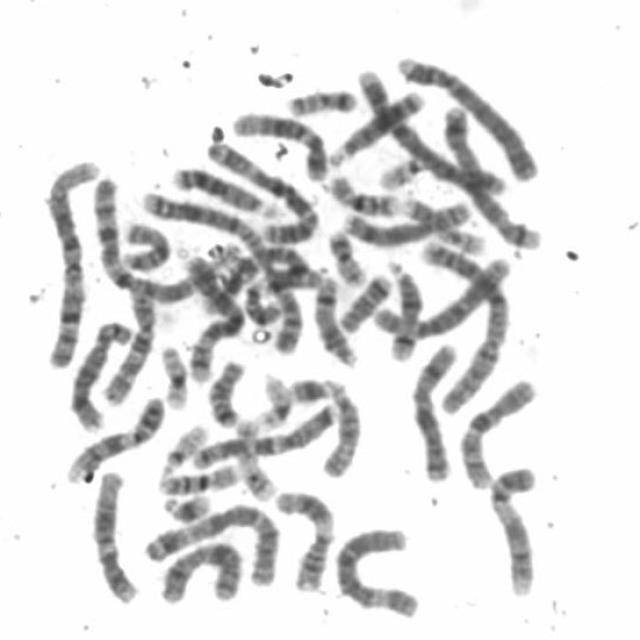A1: (85, 167, 230, 306), (40, 152, 104, 370)
A2: (134, 179, 312, 351), (414, 233, 514, 415)
A3: (139, 495, 286, 590), (203, 131, 325, 245)
B4: (350, 59, 511, 198), (389, 46, 546, 182)
B5: (437, 97, 547, 251), (176, 245, 251, 386)
C10: (454, 368, 543, 491), (98, 280, 162, 406)
C11: (270, 482, 340, 592), (239, 265, 332, 331)
C12: (225, 102, 334, 182), (87, 461, 144, 606)
C6: (370, 247, 517, 341), (329, 518, 425, 619)
C7: (183, 394, 344, 471), (198, 241, 308, 318)
C8: (64, 312, 138, 433), (337, 192, 474, 248)
C9: (62, 388, 170, 485), (483, 456, 545, 599)
D13: (324, 81, 430, 168), (167, 156, 285, 218)
D14: (307, 267, 363, 368), (381, 251, 429, 363)
D15: (316, 380, 366, 479), (116, 213, 176, 274)
E16: (320, 165, 406, 218), (154, 455, 248, 496)
E17: (397, 189, 490, 257), (229, 411, 280, 503)
E18: (335, 265, 397, 335), (202, 351, 250, 429)
F19: (250, 365, 297, 432), (154, 335, 194, 412)
F20: (322, 220, 372, 286), (282, 78, 362, 118)
G21: (157, 485, 216, 525), (282, 369, 342, 406)
G22: (154, 414, 212, 476), (373, 146, 431, 192)
X: (406, 333, 464, 484), (154, 532, 248, 606)
